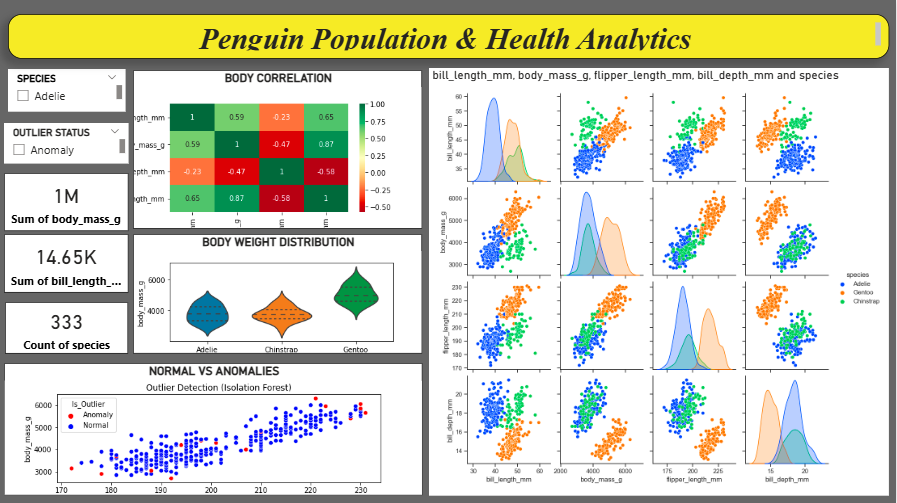

This screenshot's page, from the dashboard's own definition file:
{"tool":"powerbi","page":{"name":"Page 1","canvas":[1280,720],"ordinal":0},"visuals":[{"type":"pythonVisual","title":"BODY CORRELATION ","fields":{"Values":["dataset.bill_length_mm","dataset.body_mass_g","dataset.bill_depth_mm","dataset.flipper_length_mm"]},"box":[190.5,99.5,413.2,226.9],"z":0},{"type":"pythonVisual","title":"NORMAL VS ANOMALIES","fields":{"Values":["dataset.flipper_length_mm","dataset.body_mass_g","dataset.Is_Outlier"]},"box":[5.6,518.3,598.1,189.1],"z":1000},{"type":"pythonVisual","title":"BODY WEIGHT DISTRIBUTION","fields":{"Values":["dataset.species","dataset.body_mass_g"]},"box":[190.5,334.8,413.2,170.9],"z":2000},{"type":"slicer","fields":{"Values":["dataset.species"]},"box":[11,99.1,167.9,60.6],"z":3000},{"type":"card","fields":{"Values":["CountNonNull(dataset.species)"]},"box":[6.9,430.8,176.2,74.3],"z":4000},{"type":"card","fields":{"Values":["Sum(dataset.body_mass_g)"]},"box":[5.5,247.7,177.5,82.6],"z":5000},{"type":"card","fields":{"Values":["Sum(dataset.bill_length_mm)"]},"box":[5.5,334.5,177.5,84],"z":6000},{"type":"slicer","fields":{"Values":["dataset.Is_Outlier"]},"box":[5.5,176.2,177.5,57.8],"z":7000},{"type":"textbox","box":[11.8,19.7,1258.7,64.4],"z":8000},{"type":"pythonVisual","fields":{"Values":["dataset.bill_length_mm","dataset.body_mass_g","dataset.flipper_length_mm","dataset.bill_depth_mm","dataset.species"]},"box":[613.5,96.7,657,610.7],"z":10001}]}

Visuals, with their boxes in screenshot pixels (x1, y1, x2, y2), scaled from the page's 1280x720 canvas onto the 897x503 screenshot:
"BODY CORRELATION " pythonVisual: box(133, 70, 423, 228)
"NORMAL VS ANOMALIES" pythonVisual: box(4, 362, 423, 494)
"BODY WEIGHT DISTRIBUTION" pythonVisual: box(133, 234, 423, 353)
slicer - dataset.species: box(8, 69, 125, 112)
card - CountNonNull(dataset.species): box(5, 301, 128, 353)
card - Sum(dataset.body_mass_g): box(4, 173, 128, 231)
card - Sum(dataset.bill_length_mm): box(4, 234, 128, 292)
slicer - dataset.Is_Outlier: box(4, 123, 128, 163)
textbox: box(8, 14, 890, 59)
pythonVisual - dataset.bill_length_mm x dataset.body_mass_g: box(430, 68, 890, 494)
